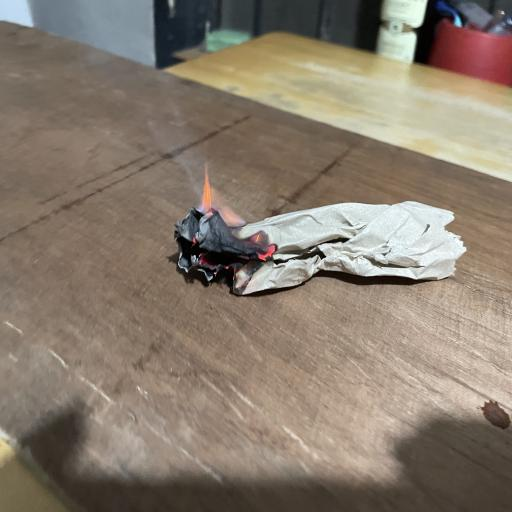fire: (166, 148, 282, 318)
